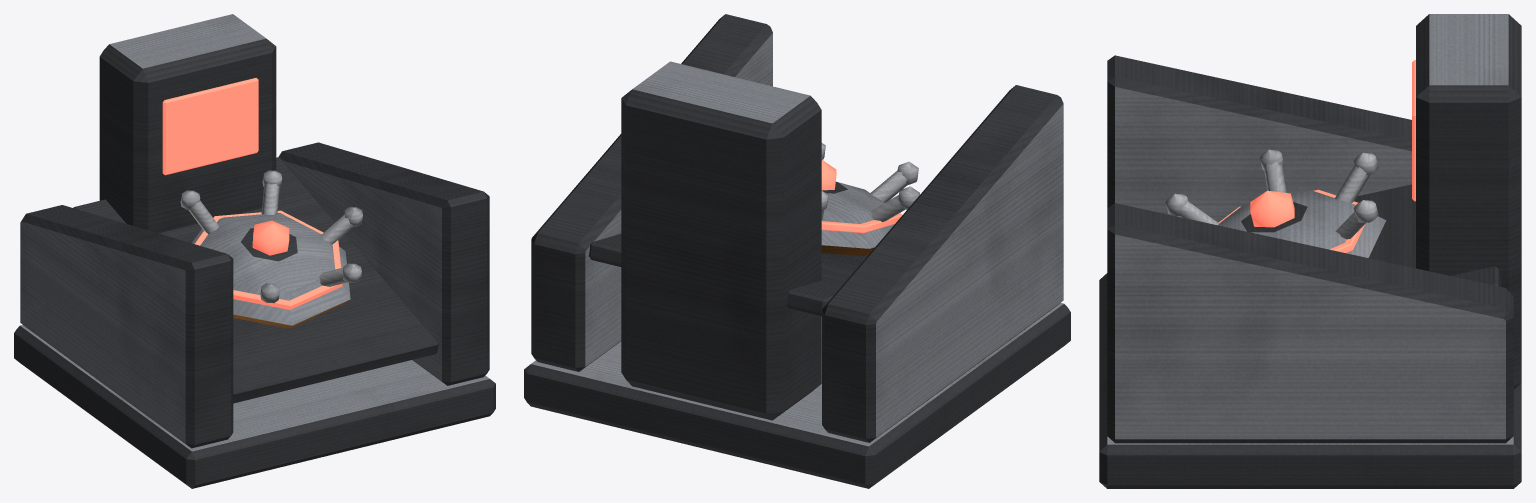
Rendered from R4X_ExplosiveTrapDeployer_LOD1.glb.
3 views of the same model, side by side, from view 1: azimuth 30°, elevation 25°; view 2: azimuth 150°, elevation 25°; view 3: azimuth 270°, elevation 25° (orthographic). The views are drawn at different scales.
Parts seen in each view (by area): view 1: R4X_ExplosiveTrapDeployer_LOD1; view 2: R4X_ExplosiveTrapDeployer_LOD1; view 3: R4X_ExplosiveTrapDeployer_LOD1.
Part boxes in pixels (x1,y1,x2,y2): R4X_ExplosiveTrapDeployer_LOD1: [14, 14, 495, 488]; R4X_ExplosiveTrapDeployer_LOD1: [524, 14, 1070, 488]; R4X_ExplosiveTrapDeployer_LOD1: [1099, 14, 1521, 488].
Size of the model in its own units: 0.52 by 0.48 by 0.52.
5 materials, 4 textured.
